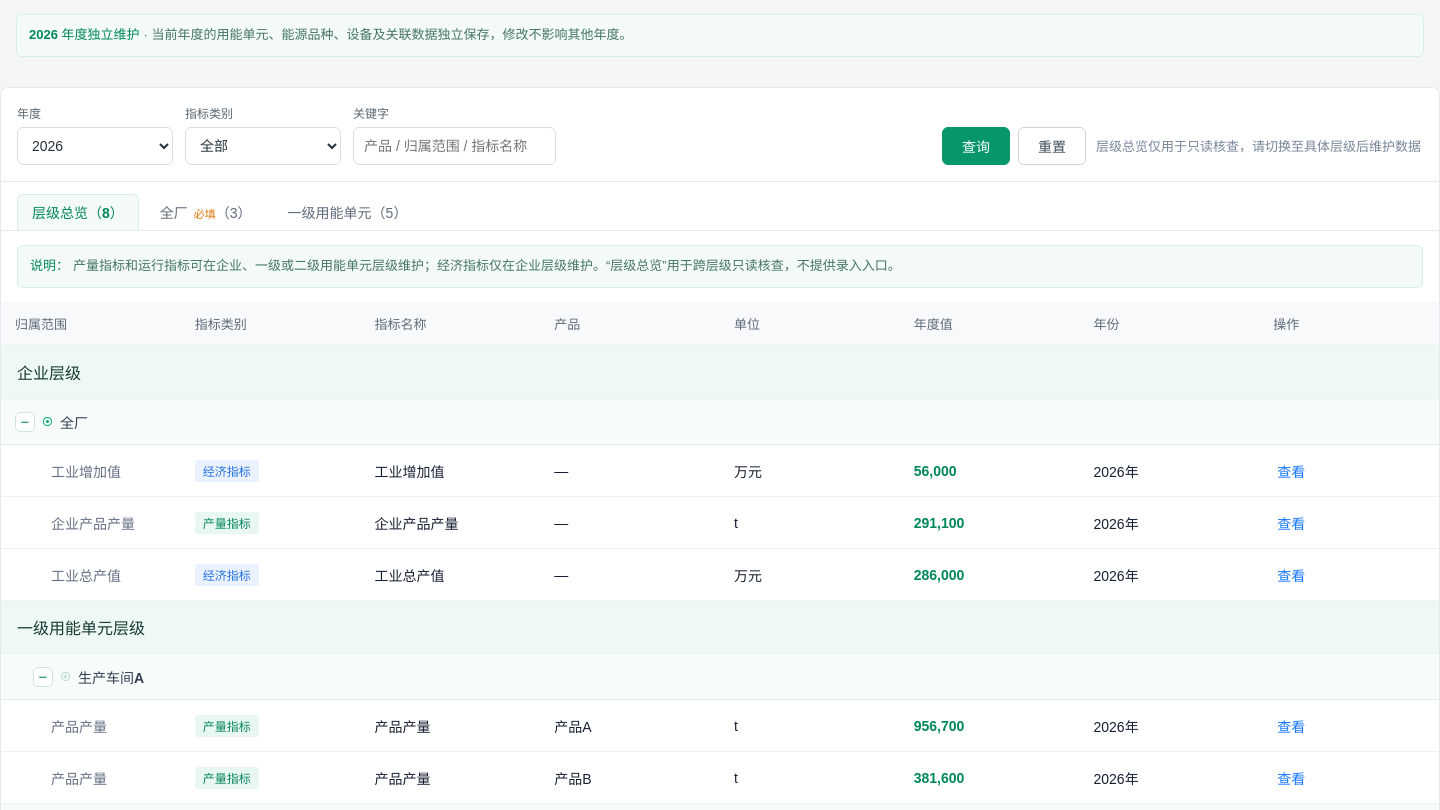
Test: annual ledgers and shared monthly details › shows twelve empty months for annual-only operation data without allocating the annual value
The image size is (1440, 810).
Click the button "查看" in the row of "56,000": (1291, 471) [1273,459,1309,483]
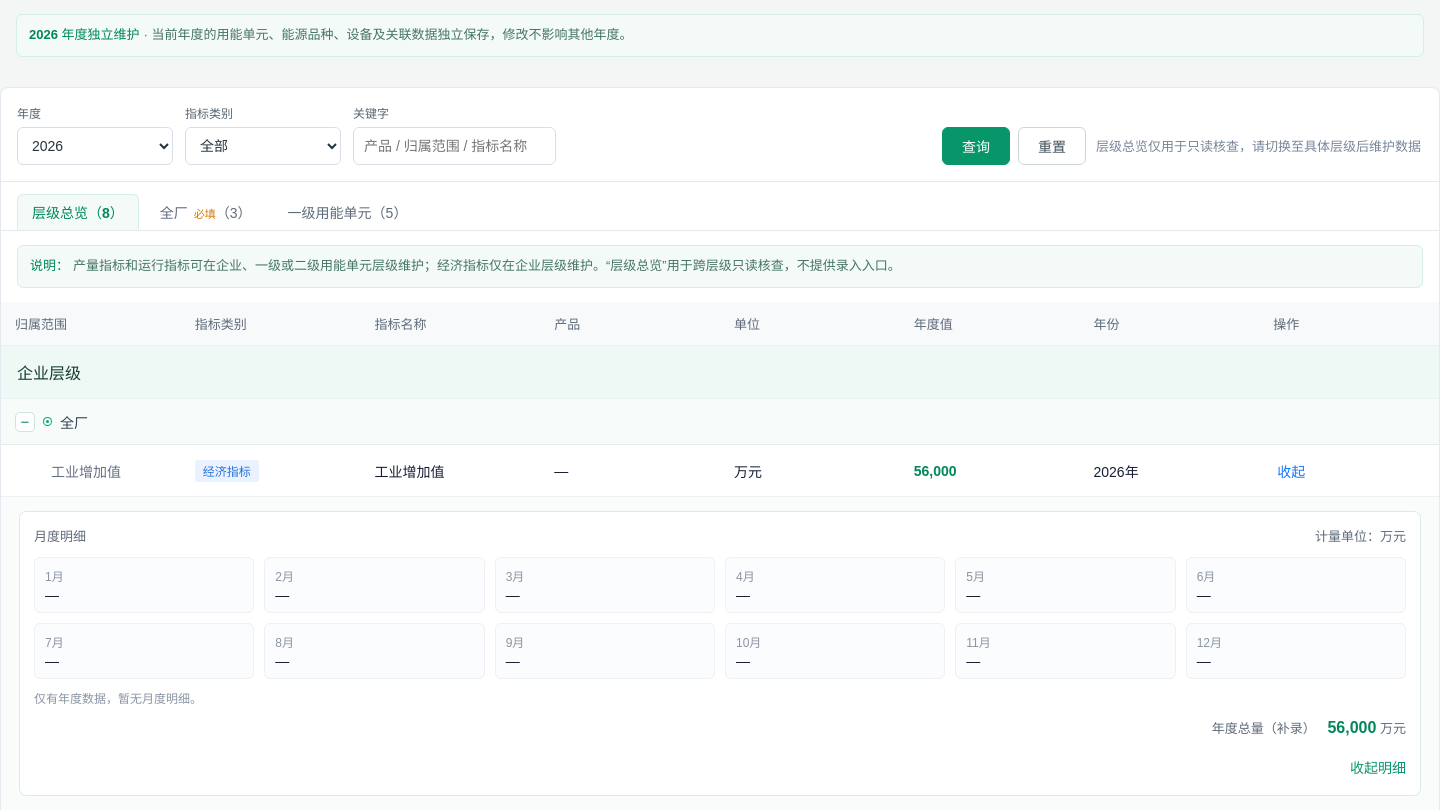
Expected: the element named "月度明细" shows "仅有年度数据，暂无月度明细", [34,692,202,706]
